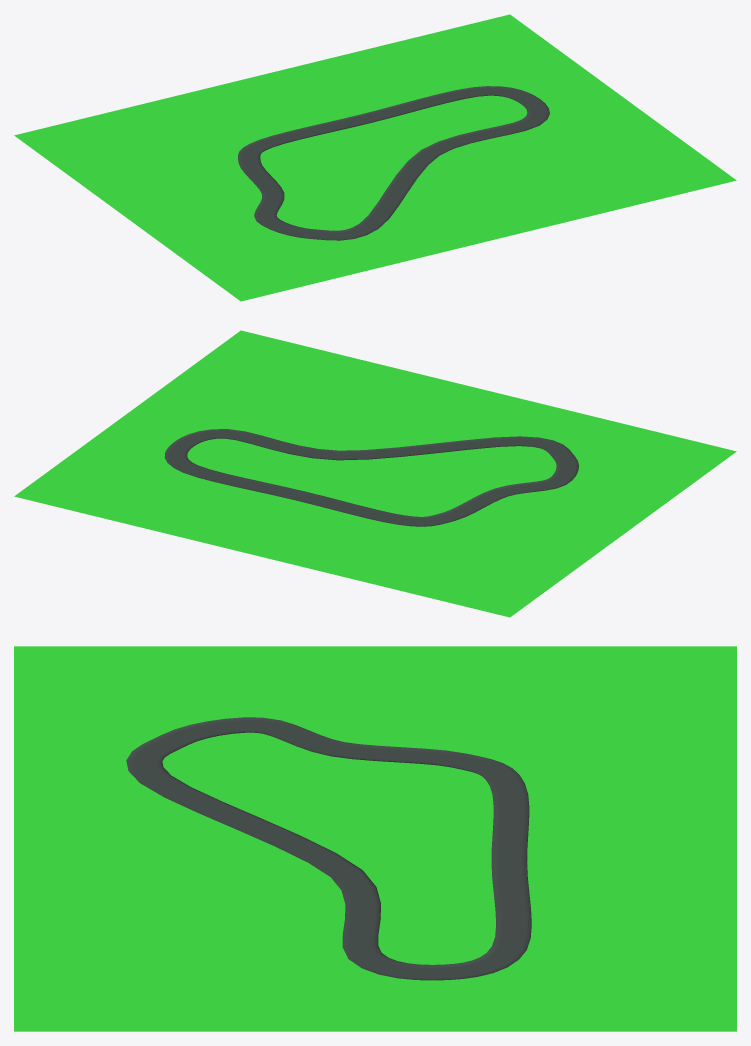
The picture shows the model from 3 angles, top to bottom: view 1: azimuth 30°, elevation 25°; view 2: azimuth 150°, elevation 25°; view 3: azimuth 270°, elevation 25°; orthographic projection. The views are drawn at different scales.
Parts seen in each view (by area): view 1: Plan001, Extrusion001; view 2: Plan001, Extrusion001; view 3: Plan001, Extrusion001.
Part boxes in pixels (<box>): Plan001: <box>14,14,736,301</box>; Extrusion001: <box>238,86,549,240</box>; Plan001: <box>14,330,736,617</box>; Extrusion001: <box>164,429,578,526</box>; Plan001: <box>14,646,736,1031</box>; Extrusion001: <box>126,717,531,980</box>.
Bounding box in the file's own units: 178 × 141 × 0.289.
